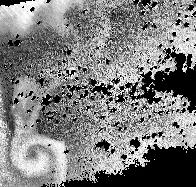CE: (8, 131, 66, 176)
